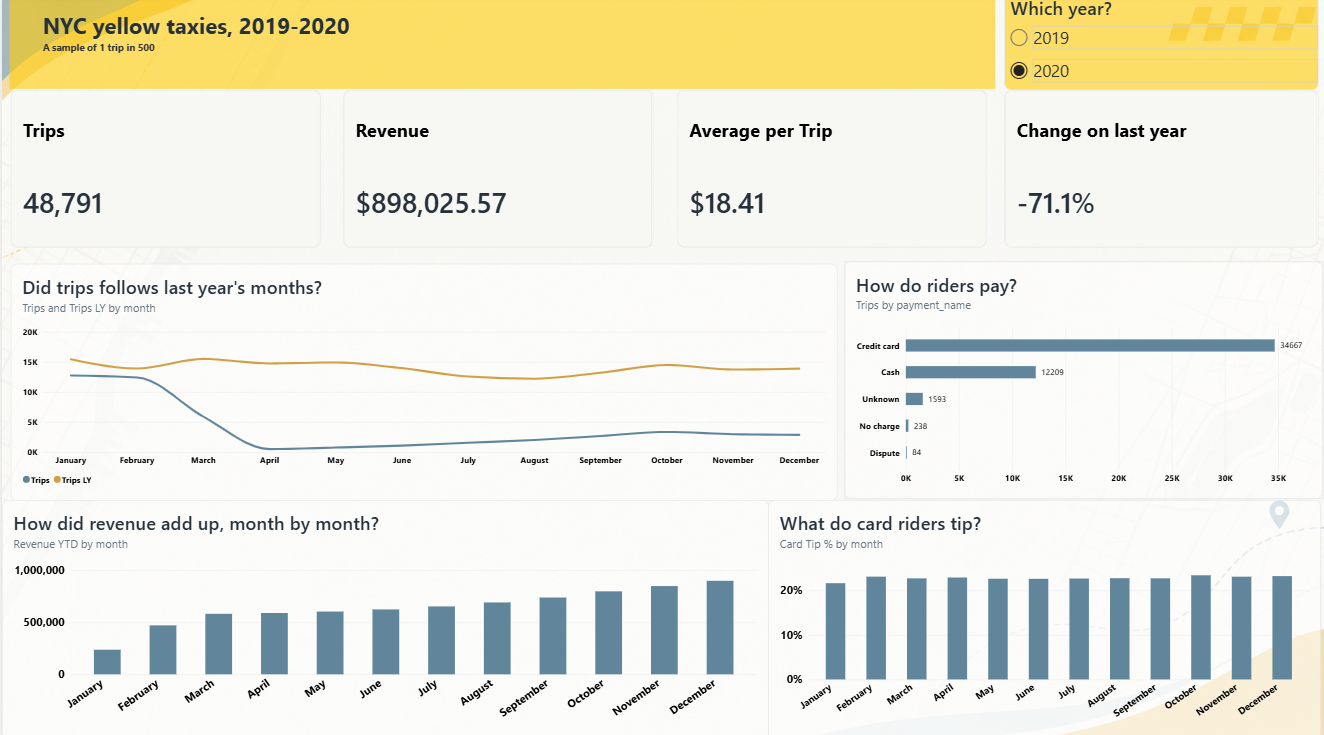

The dashboard page shown, as its layout file describes it:
{"tool":"powerbi","page":{"name":"Overview","canvas":[1920,1080],"ordinal":0},"visuals":[{"type":"textbox","box":[10.6,0,1427.1,135.7],"z":0},{"type":"cardVisual","fields":{"Data":["trips.Trips"]},"box":[12.5,136.7,448.8,228],"z":1000},{"type":"cardVisual","fields":{"Data":["trips.Revenue"]},"box":[493.8,136.7,448.8,228],"z":2000},{"type":"cardVisual","fields":{"Data":["trips.Average per Trip"]},"box":[977,136.7,448.8,228],"z":3000},{"type":"cardVisual","fields":{"Data":["trips.Trips YoY %"]},"box":[1451.4,137.1,454,228],"z":4000},{"type":"lineChart","title":"Did trips follows last year''s months?","fields":{"Category":["dates.month"],"Y":["trips.Trips","trips.Trips LY"]},"box":[12.9,388.6,1197.1,342.9],"z":5000},{"type":"clusteredBarChart","title":"How do riders pay?","fields":{"Category":["payment_types.payment_name"],"Y":["trips.Trips"]},"box":[1220,386,692,344],"z":6000},{"type":"clusteredColumnChart","title":"How did revenue add up, month by month?","fields":{"Category":["dates.month"],"Y":["trips.Revenue YTD"]},"box":[0,731.4,1110,348.6],"z":7000},{"type":"clusteredColumnChart","title":"What do card riders tip?","fields":{"Category":["dates.month"],"Y":["trips.Card Tip %"]},"box":[1110,732,800,348],"z":8000},{"type":"slicer","fields":{"Values":["dates.year"]},"box":[1451.3,0,454.2,137.5],"z":9000}]}

Visuals, with their boxes in screenshot pixels (x1, y1, x2, y2), scaled from the page's 1920x1080 canvas onto the 1324x735 screenshot:
textbox: Rect(7, 0, 991, 92)
cardVisual - trips.Trips: Rect(9, 93, 318, 248)
cardVisual - trips.Revenue: Rect(341, 93, 650, 248)
cardVisual - trips.Average per Trip: Rect(674, 93, 983, 248)
cardVisual - trips.Trips YoY %: Rect(1001, 93, 1314, 248)
"Did trips follows last year''s months?" lineChart: Rect(9, 264, 834, 498)
"How do riders pay?" clusteredBarChart: Rect(841, 263, 1318, 497)
"How did revenue add up, month by month?" clusteredColumnChart: Rect(0, 498, 765, 734)
"What do card riders tip?" clusteredColumnChart: Rect(765, 498, 1317, 734)
slicer - dates.year: Rect(1001, 0, 1314, 94)
